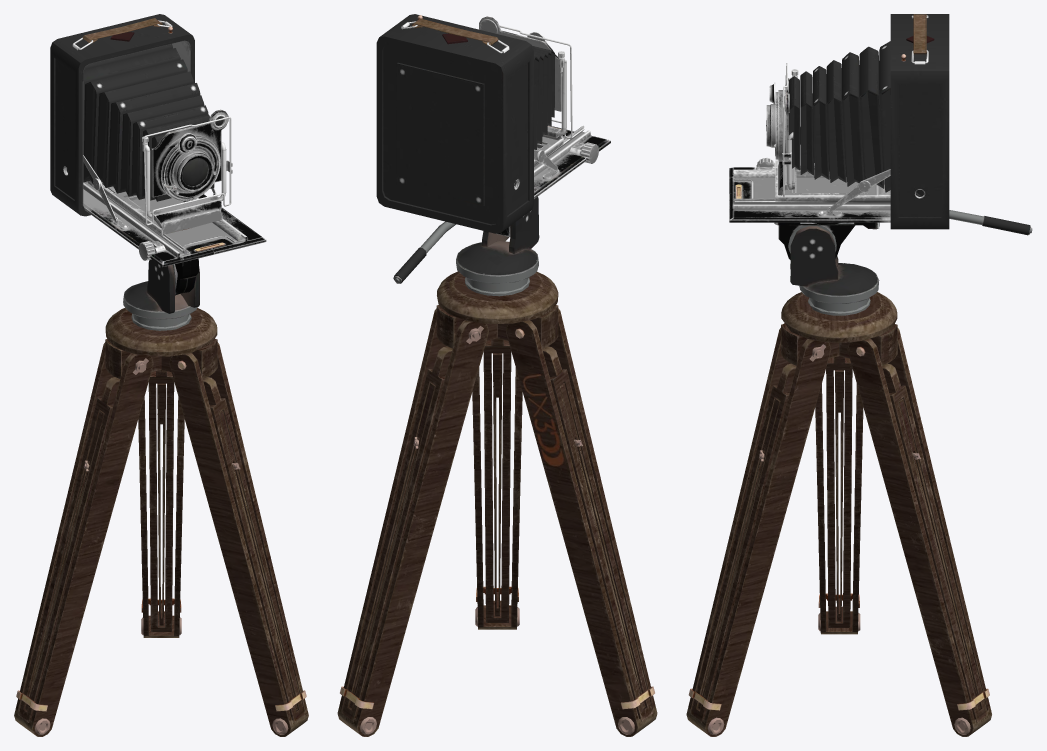
File: antique_camera.glb
3 renders of one model, left to right at view 1: azimuth 30°, elevation 25°; view 2: azimuth 150°, elevation 25°; view 3: azimuth 270°, elevation 25°, orthographic. The views are drawn at different scales.
Visible parts, largest first — view 1: tripod, camera; view 2: tripod, camera; view 3: tripod, camera.
Part boxes in pixels (x1=…): tripod: x1=14, y1=258, x2=308, y2=736; camera: x1=50, y1=14, x2=266, y2=266; tripod: x1=337, y1=196, x2=657, y2=736; camera: x1=376, y1=14, x2=610, y2=233; tripod: x1=686, y1=210, x2=1032, y2=736; camera: x1=729, y1=14, x2=949, y2=229.
Size of the model in its own units: 2.6 by 7.21 by 3.39.
Materials: 2 (2 with a texture image).
